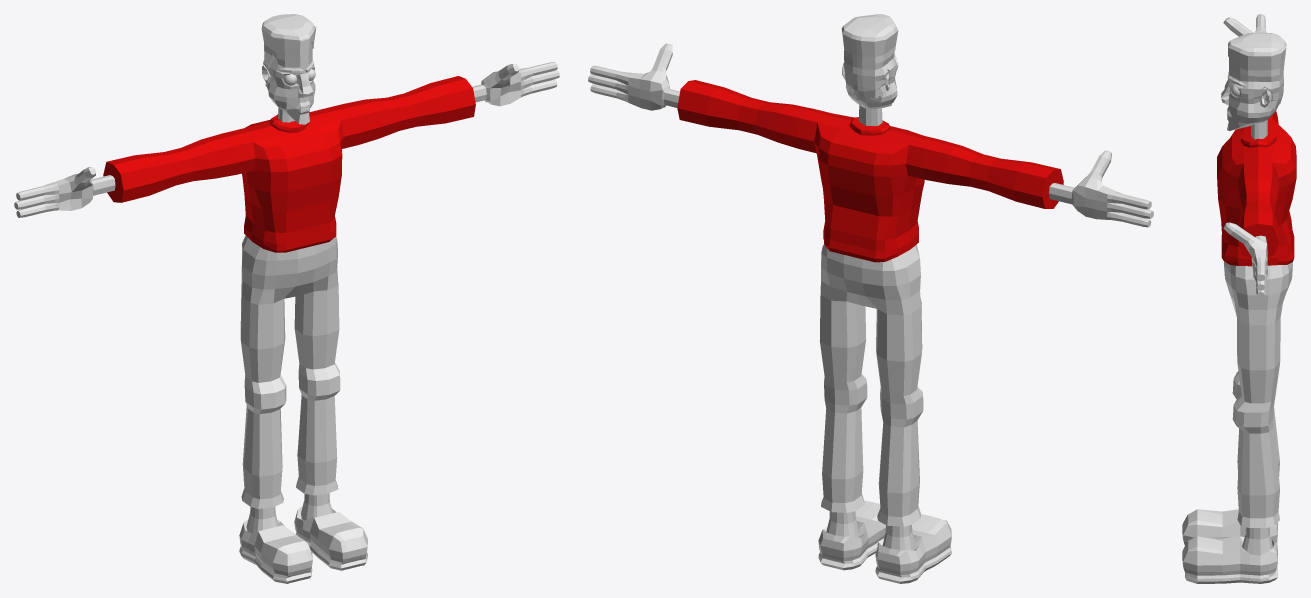
The model's file is frankie.fbx.
The picture shows the model from 3 angles, left to right: view 1: azimuth 30°, elevation 25°; view 2: azimuth 150°, elevation 25°; view 3: azimuth 270°, elevation 25°; orthographic projection. The views are drawn at different scales.
Visible parts, largest first — view 1: Torso, Legs, Head, Foot_Right, Foot_Left, Hand_Right, Hand_Left; view 2: Torso, Legs, Head, Foot_Right, Hand_Right, Foot_Left, Hand_Left; view 3: Legs, Torso, Head, Foot_Left, Foot_Right, Hand_Left, Hand_Right.
Boxes of the visible parts, x1=… form: Torso: x1=103, y1=76, x2=475, y2=252; Legs: x1=240, y1=235, x2=340, y2=508; Head: x1=261, y1=14, x2=316, y2=124; Foot_Right: x1=239, y1=506, x2=312, y2=583; Foot_Left: x1=294, y1=493, x2=367, y2=570; Hand_Right: x1=14, y1=167, x2=115, y2=217; Hand_Left: x1=472, y1=62, x2=559, y2=106; Torso: x1=677, y1=80, x2=1063, y2=262; Legs: x1=819, y1=244, x2=923, y2=526; Head: x1=841, y1=14, x2=898, y2=125; Foot_Right: x1=875, y1=514, x2=951, y2=583; Hand_Right: x1=1049, y1=150, x2=1153, y2=227; Foot_Left: x1=818, y1=500, x2=885, y2=570; Hand_Left: x1=588, y1=43, x2=679, y2=110; Legs: x1=1224, y1=261, x2=1292, y2=527; Torso: x1=1217, y1=111, x2=1296, y2=266; Head: x1=1221, y1=32, x2=1286, y2=139; Foot_Left: x1=1182, y1=527, x2=1277, y2=583; Foot_Right: x1=1182, y1=509, x2=1277, y2=549; Hand_Left: x1=1223, y1=222, x2=1267, y2=298; Hand_Right: x1=1223, y1=14, x2=1266, y2=36.
Bounding box in the file's own units: 524 × 485 × 96.35.
